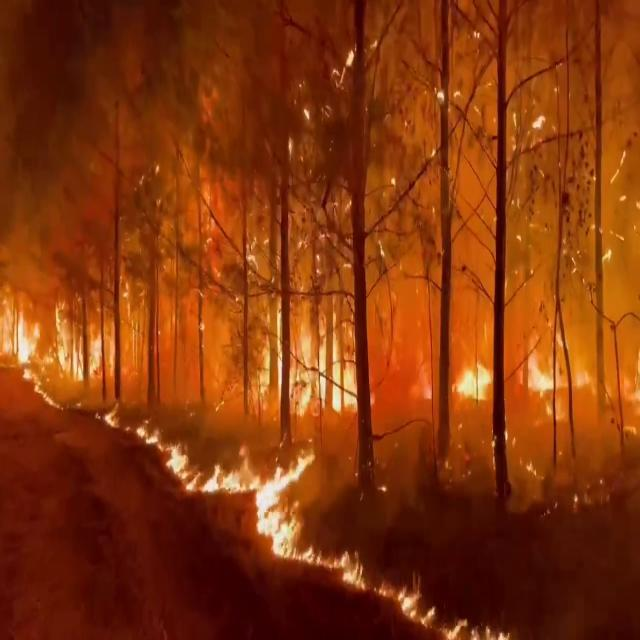Fire: (243, 289, 355, 416), (216, 432, 322, 566), (454, 312, 574, 429), (328, 541, 454, 640), (138, 419, 200, 502), (44, 297, 102, 383), (0, 285, 40, 373)
Smoke: (289, 4, 640, 334), (0, 0, 295, 309)
